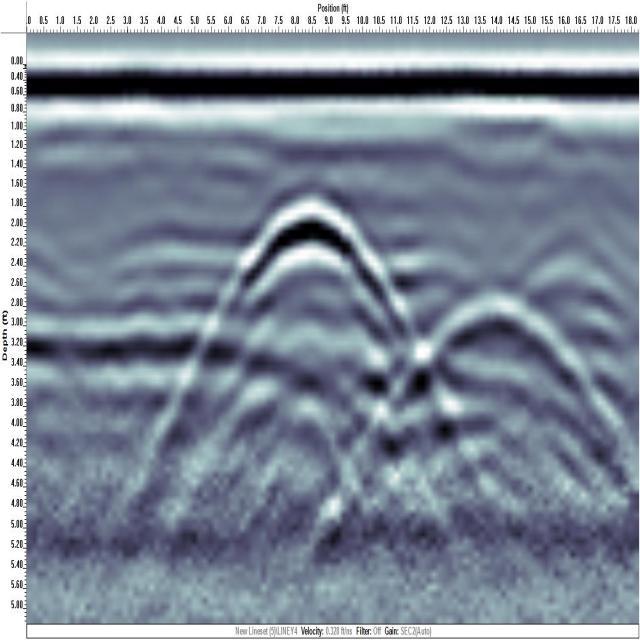hyperbola: (221, 180, 417, 325), (418, 275, 610, 410)
